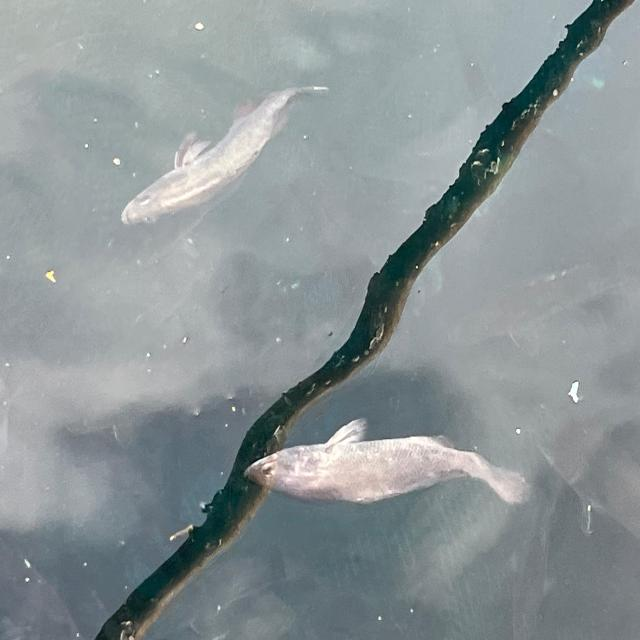ikan: (241, 377, 549, 540), (89, 83, 340, 222)
